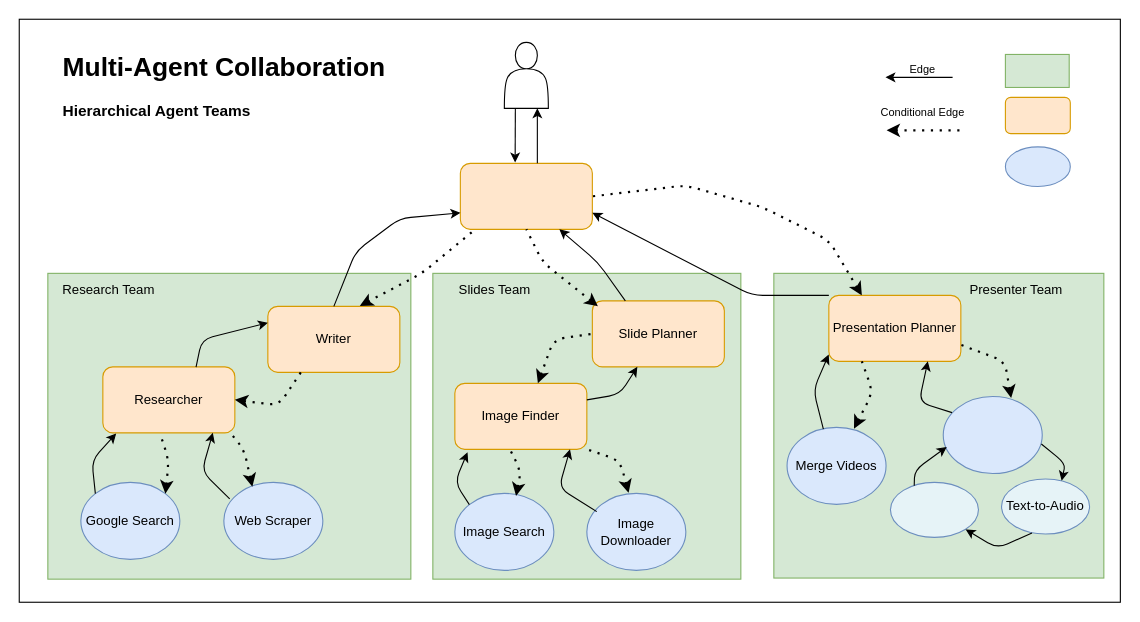
This 1140x622 diagram has some shape labels left out. The shapes that lost their labels are listed below. From the top down, each one's centre as x and y in pixels, then its label:
At (x=1036, y=70): "Team".
At (x=1037, y=115): "Agent".
At (x=1037, y=166): "tool".
At (x=525, y=195): "Supervisor".
At (x=992, y=434): "Create Video Slide".
At (x=933, y=509): "Slide-to-Video".
